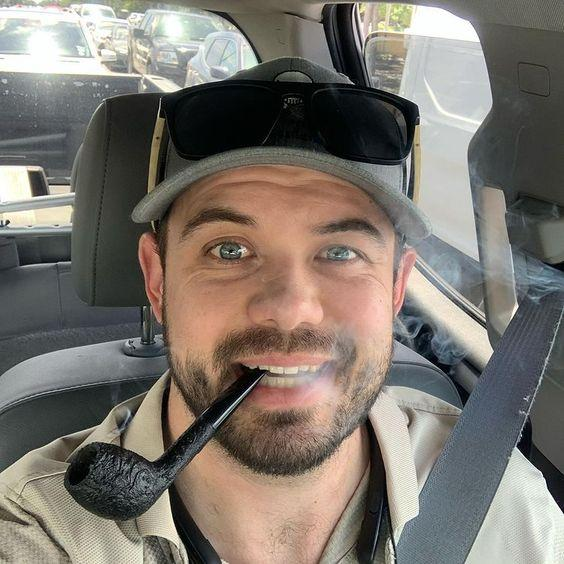trubka: (65, 371, 264, 520)
